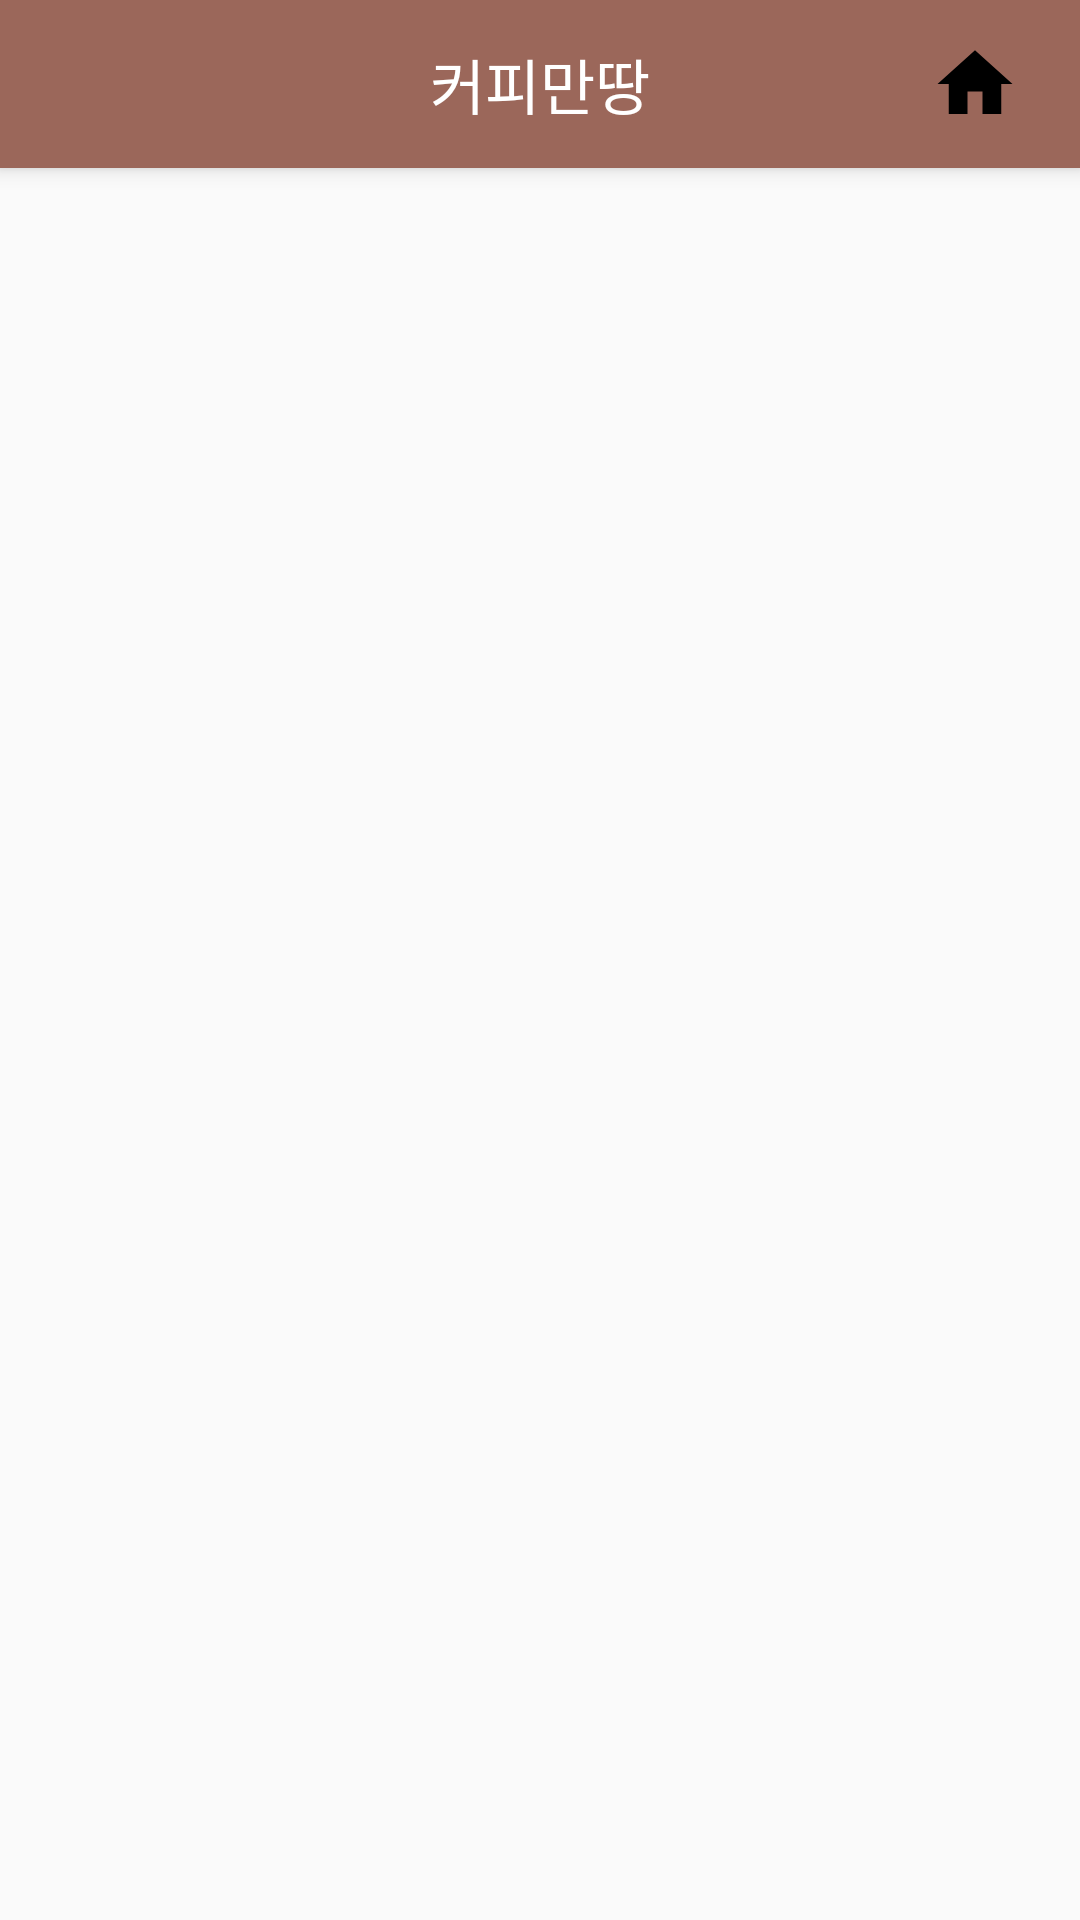

Point at icon controls on the screen. Image size 1080 × 1920, points as (x=x, y=y).
home: (x=975, y=82)
